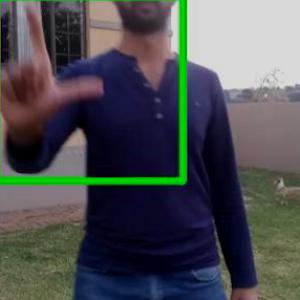land_hand: (0, 0, 111, 128)
